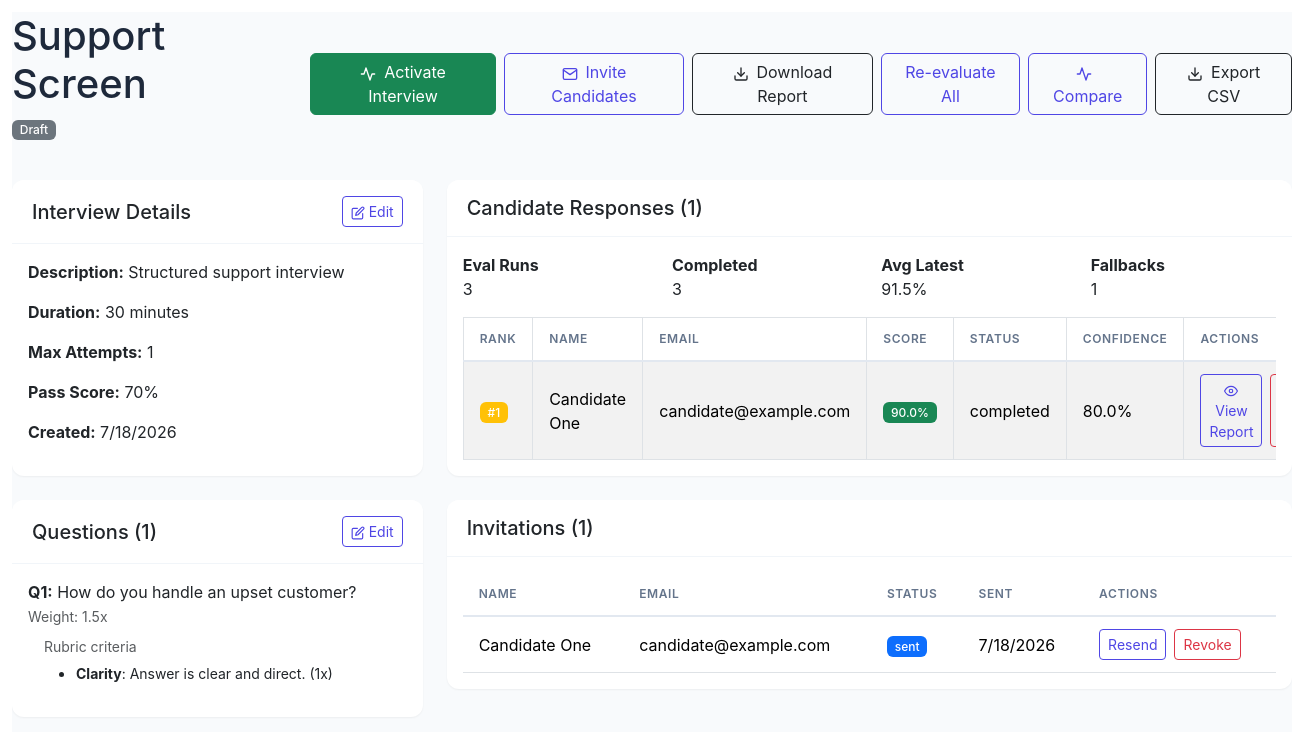
Test: InterviewDetail › queues re-evaluation for completed interview responses
What coordinates should you click on to do the following:
click the button "Re-evaluate All"
I would click on:
 (950, 84)
Its box is [881,53,1020,115].
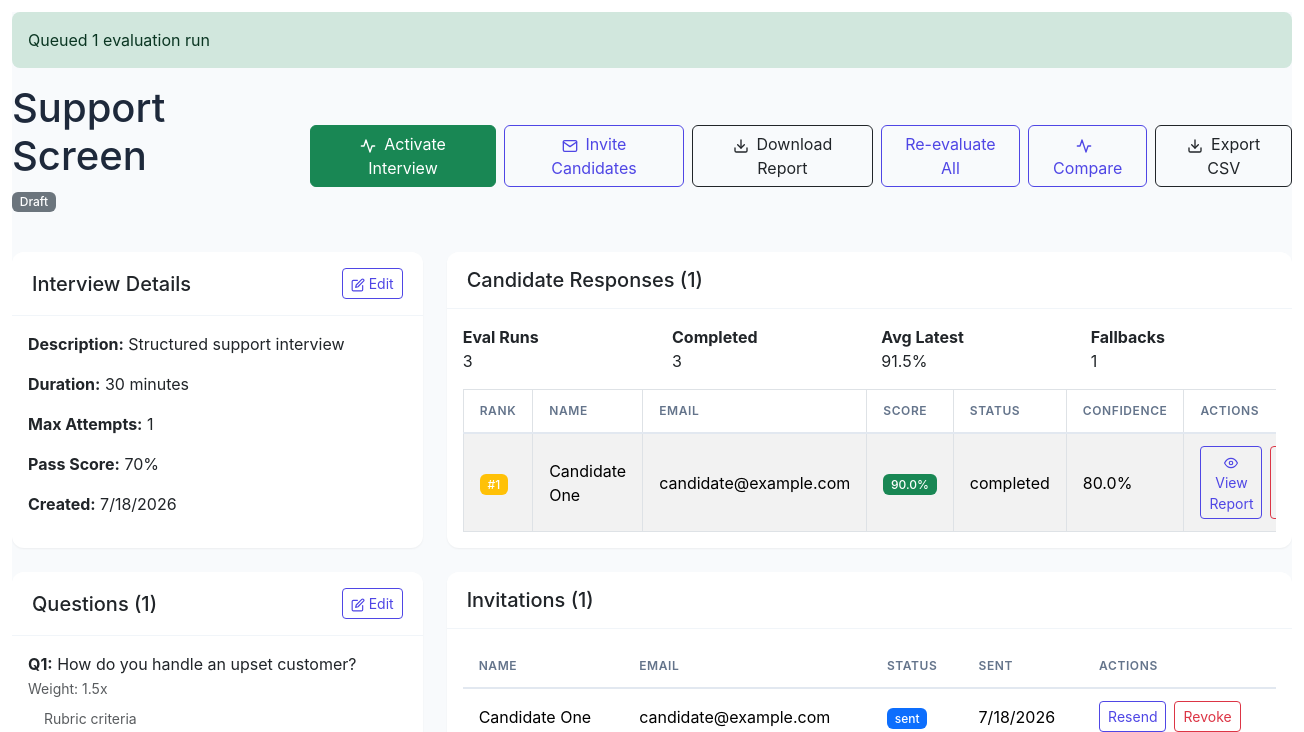
Expected: the text "Queued 1 evaluation run" is shown, [12,12,1292,68]
